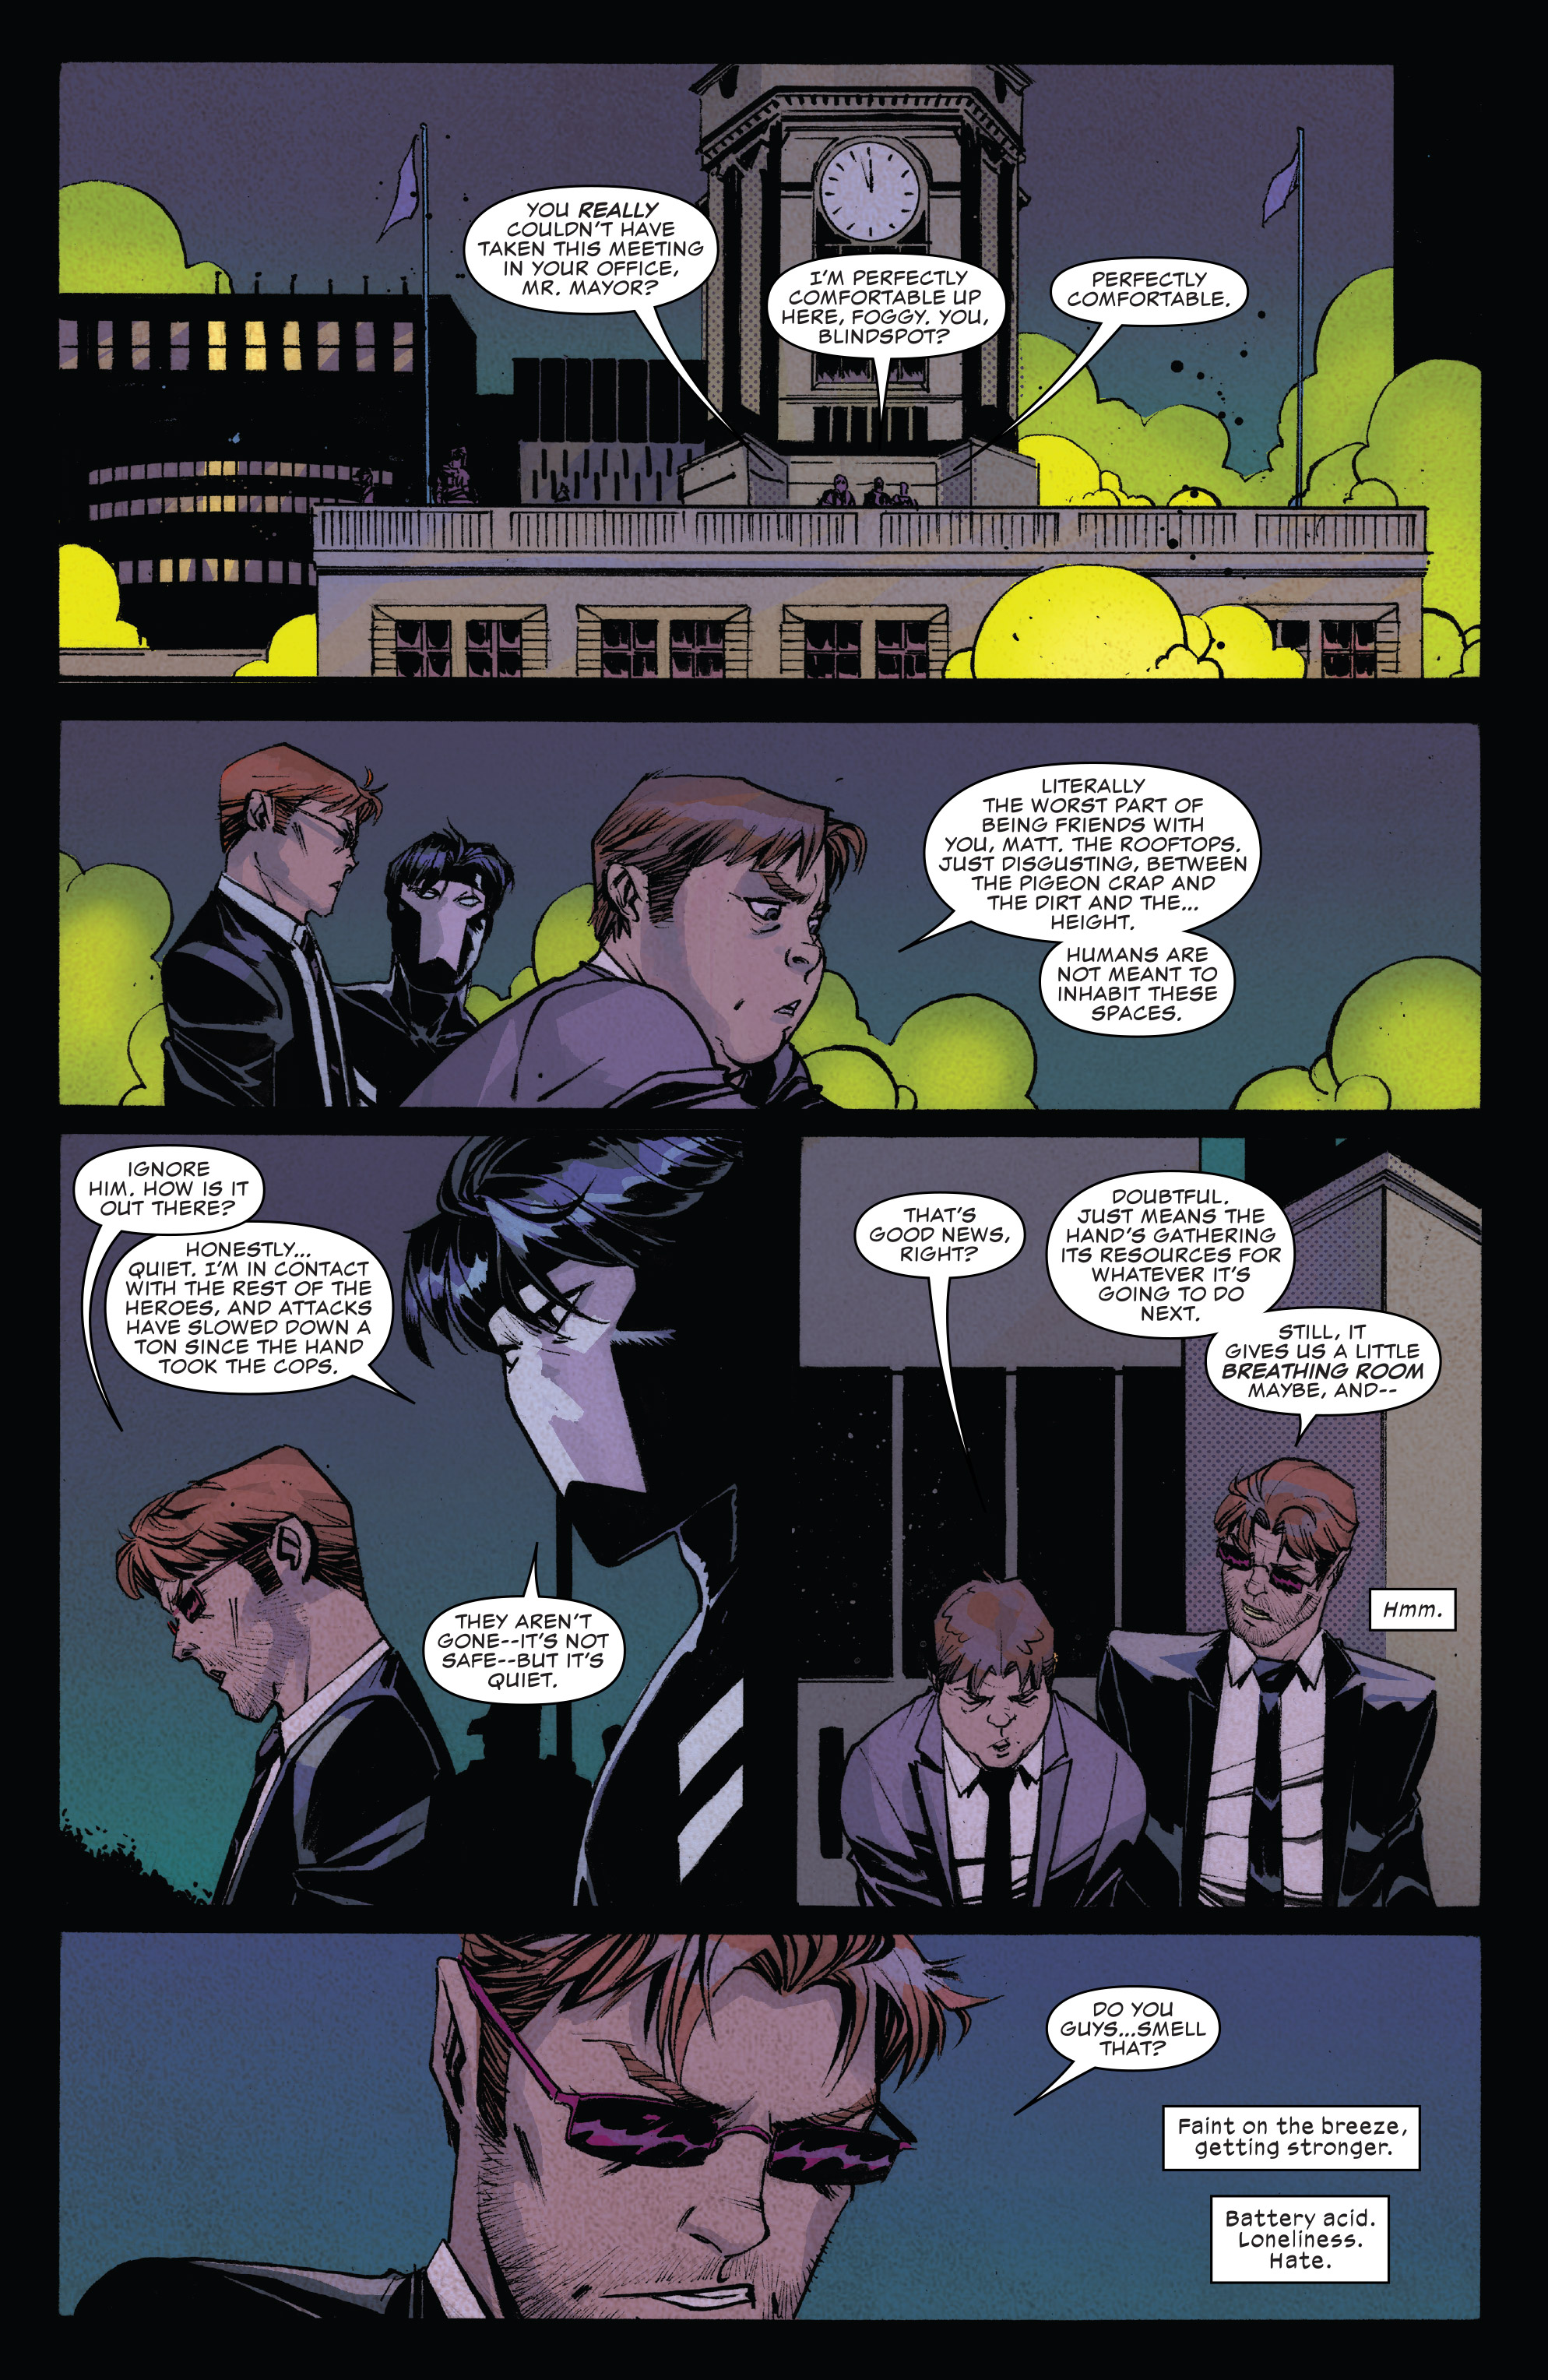Baloon: (905, 763, 1262, 1044), (456, 187, 742, 422), (113, 1226, 409, 1412), (858, 1183, 1031, 1438), (764, 255, 1012, 425), (1038, 1171, 1288, 1331), (1035, 255, 1257, 434), (416, 1563, 628, 1716), (1203, 1311, 1447, 1422), (1161, 2097, 1418, 2175), (1047, 1983, 1217, 2090), (68, 1141, 257, 1237), (1205, 2191, 1387, 2288), (1373, 1582, 1447, 1627)
Vignetta: (55, 69, 1484, 678), (55, 1134, 790, 1920), (52, 715, 1484, 1107), (794, 1138, 1487, 1913), (61, 1934, 1487, 2309)
